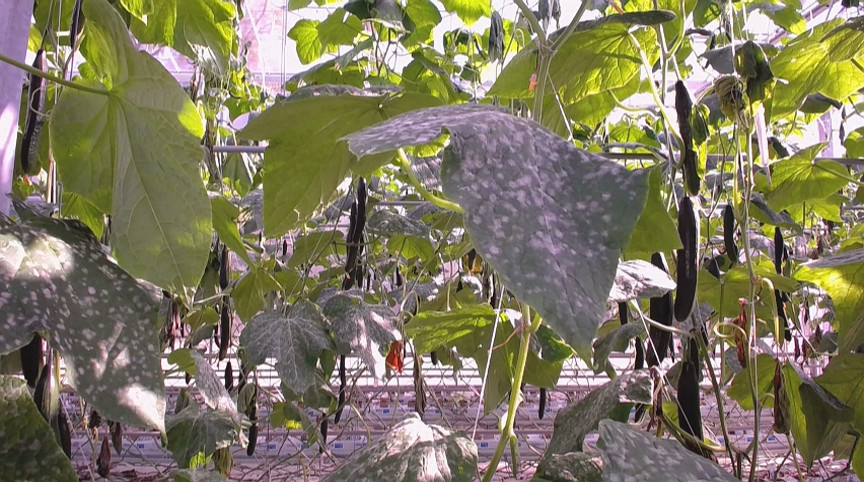cucumber: (674, 79, 703, 197), (672, 196, 699, 322), (646, 253, 672, 367), (24, 50, 46, 173), (342, 179, 369, 275), (678, 363, 705, 444), (35, 364, 60, 425), (722, 205, 738, 265), (218, 307, 231, 362)
